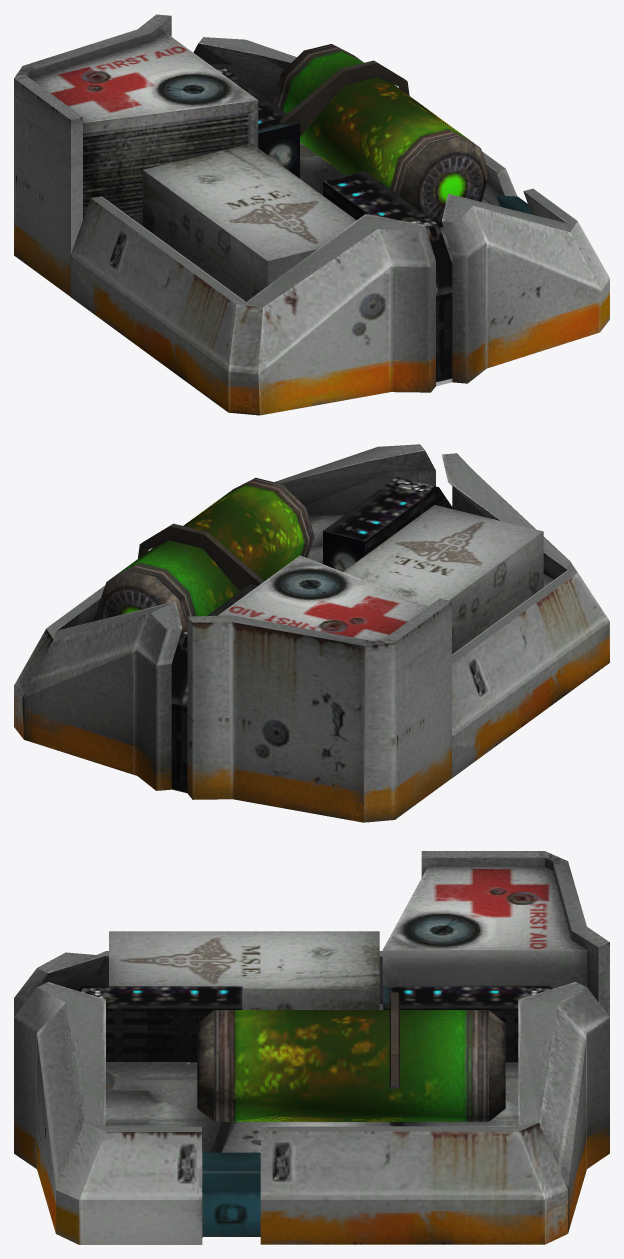
The model's file is healthkit.fbx.
3 views of the same model, one above another, from view 1: azimuth 30°, elevation 25°; view 2: azimuth 150°, elevation 25°; view 3: azimuth 270°, elevation 25° (orthographic). The views are drawn at different scales.
Parts seen in each view (by area): view 1: healthKit_reference; view 2: healthKit_reference; view 3: healthKit_reference.
Part boxes in pixels (left/top/right/bottom): healthKit_reference: left=14, top=14, right=609, bottom=415; healthKit_reference: left=14, top=444, right=609, bottom=822; healthKit_reference: left=14, top=851, right=609, bottom=1244.
Bounding box in the file's own units: 1428 × 612 × 1723.
